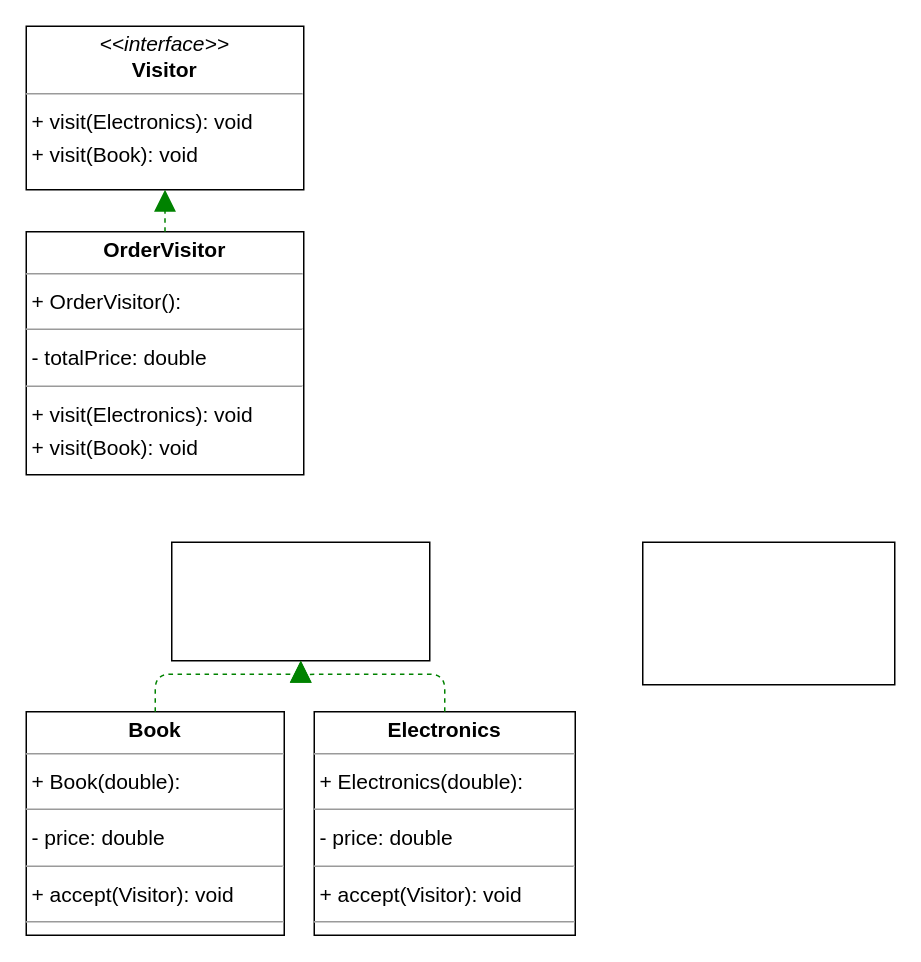
Image size: 921x962. Some labels were removed from this diagram. Here are the shapes that lost their labels. From the top down, the centre of each, then its label:
point (300, 601): <<interface>> Element + accept(Visitor): void
point (768, 613): Main + Main(): + main(String[]): void
